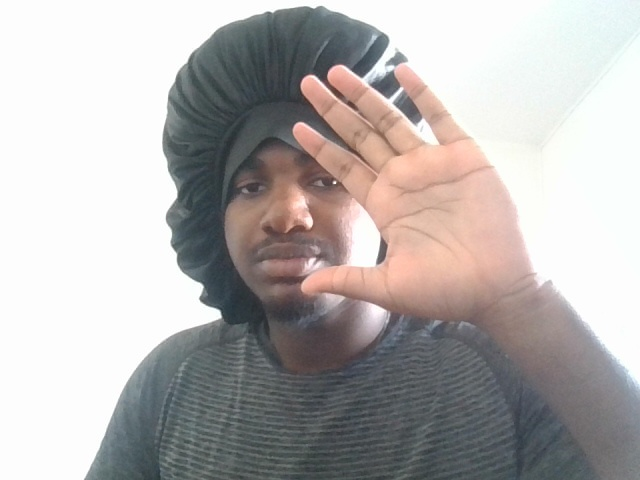Hello: (285, 60, 575, 336)
